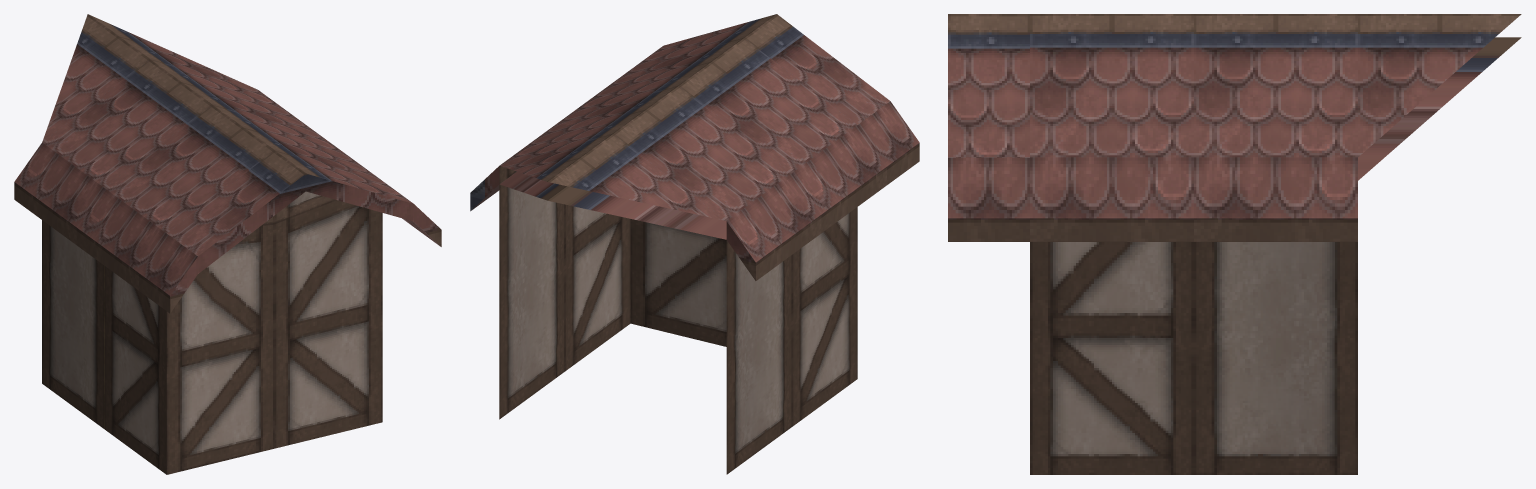
The model's file is roof_red_dormer_window.glb.
The picture shows the model from 3 angles, left to right: view 1: azimuth 30°, elevation 25°; view 2: azimuth 150°, elevation 25°; view 3: azimuth 270°, elevation 25°; orthographic projection. The views are drawn at different scales.
Visible parts, largest first — view 1: roof_red_dormer_window; view 2: roof_red_dormer_window; view 3: roof_red_dormer_window.
Part boxes in pixels (x1=…): roof_red_dormer_window: x1=14, y1=14, x2=441, y2=474; roof_red_dormer_window: x1=470, y1=14, x2=919, y2=474; roof_red_dormer_window: x1=948, y1=14, x2=1521, y2=474.
Size of the model in its own units: 1.85 by 1.93 by 2.57.
Materials: 1 (1 with a texture image).
